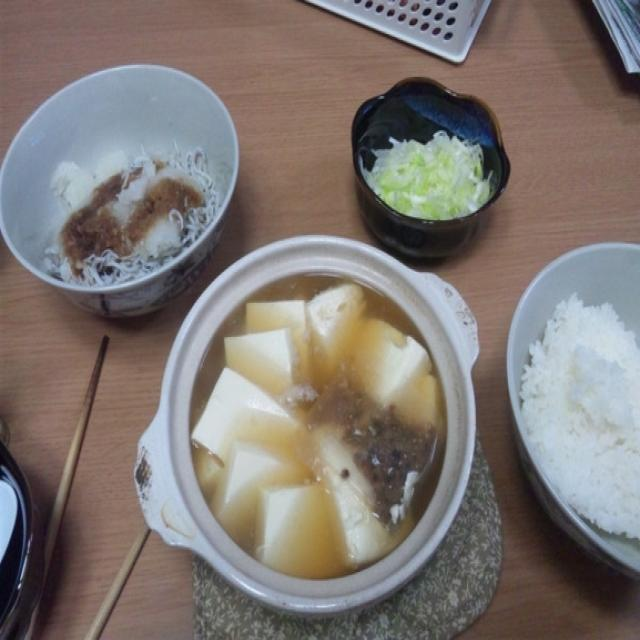豆腐料理: (170, 259, 466, 588)
